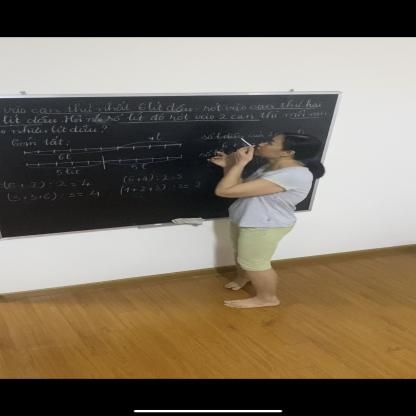cigarette: (240, 138, 252, 146)
person: (212, 134, 321, 307)
